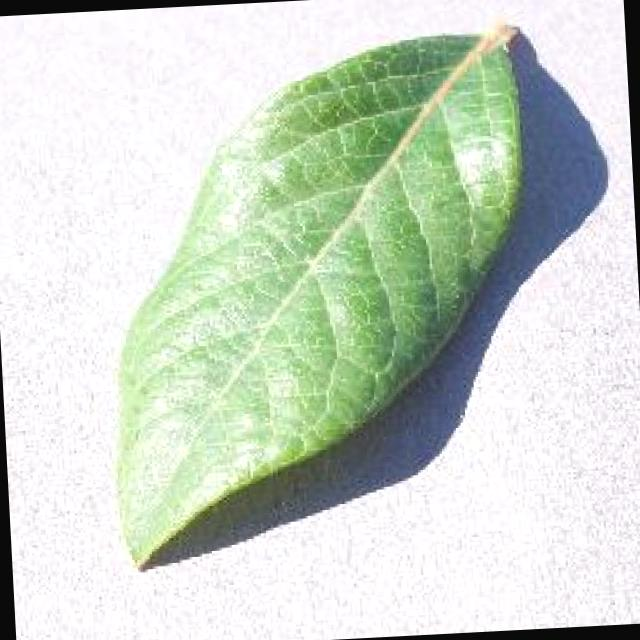healthy: (120, 30, 521, 567)
